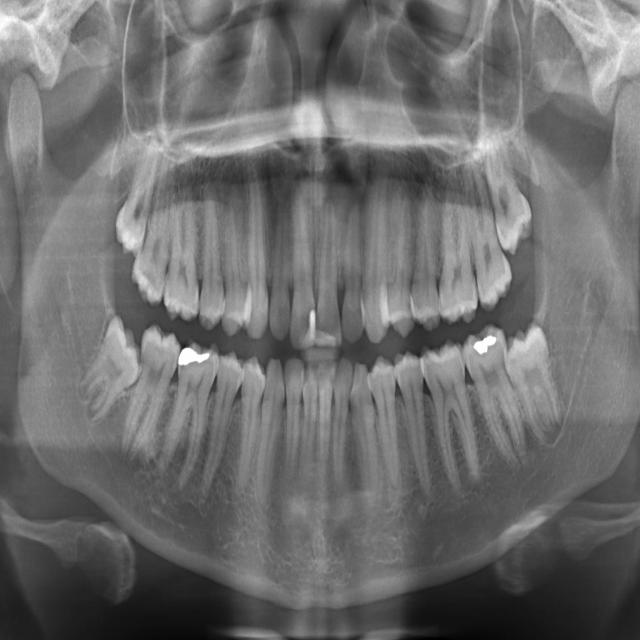AmalgamRestoration: (176, 343, 212, 368), (472, 328, 497, 361)
CompositeResinRestoration: (307, 300, 318, 345)
DentalCaries: (142, 260, 158, 294), (157, 340, 171, 370)
